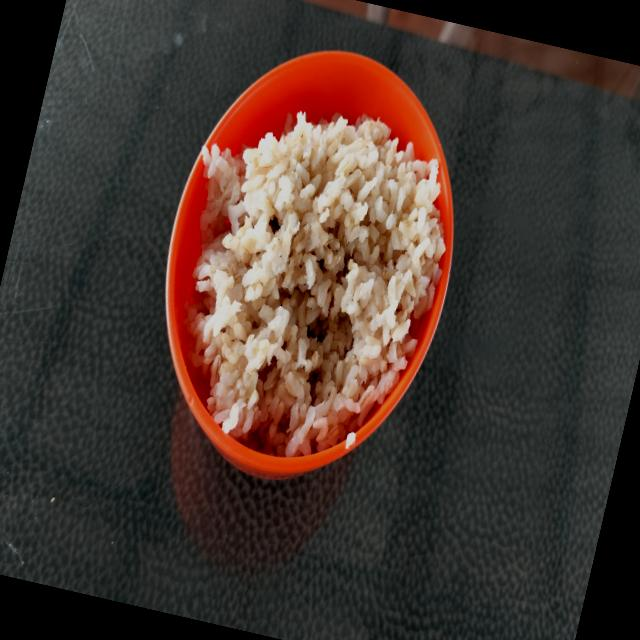brown-rice: (182, 112, 444, 458)
